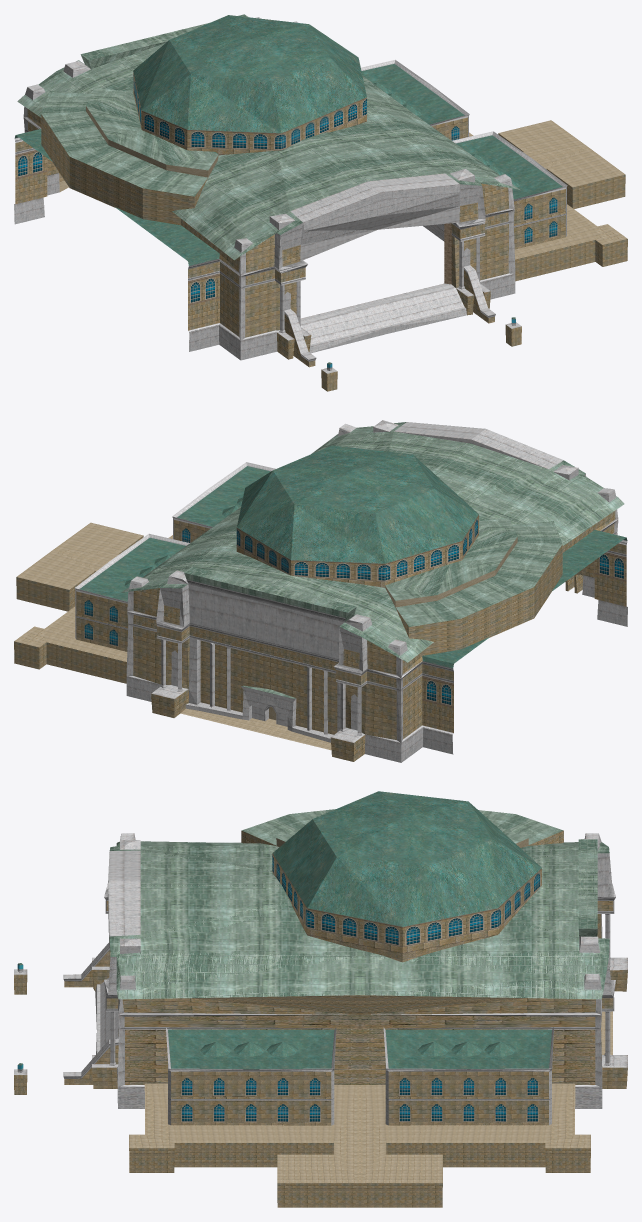
Rendered from thm_nboo_thed_hangar_r0_mesh_l3.fbx.
The picture shows the model from 3 angles, top to bottom: view 1: azimuth 30°, elevation 25°; view 2: azimuth 150°, elevation 25°; view 3: azimuth 270°, elevation 25°; orthographic projection. The views are drawn at different scales.
Parts seen in each view (by area): view 1: mesh_node; view 2: mesh_node; view 3: mesh_node.
Boxes of the visible parts, x1,y1,x2,y2 form: mesh_node: [14, 14, 627, 391]; mesh_node: [14, 420, 627, 762]; mesh_node: [14, 791, 627, 1207].
Bounding box in the file's own units: 201 × 77.2 × 192.
